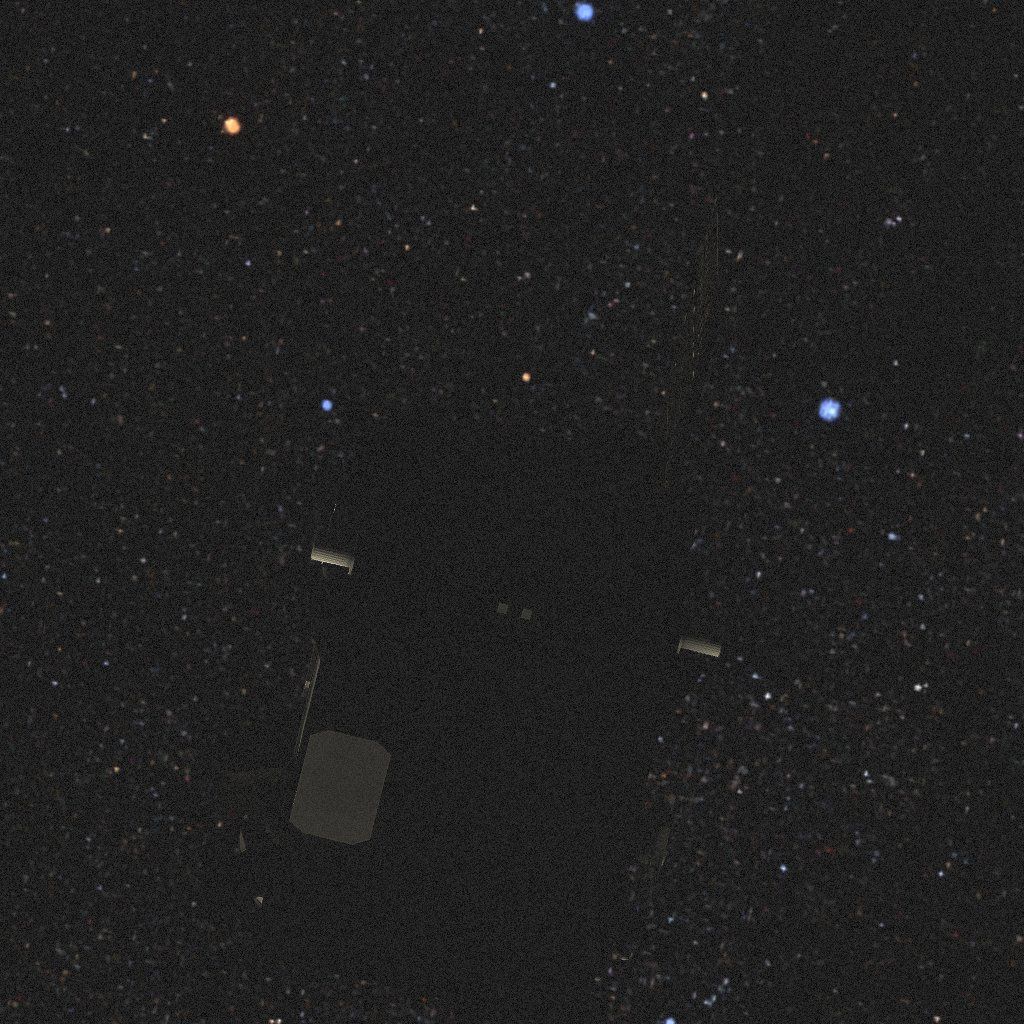proba_3_csc: (194, 195, 726, 1024)
